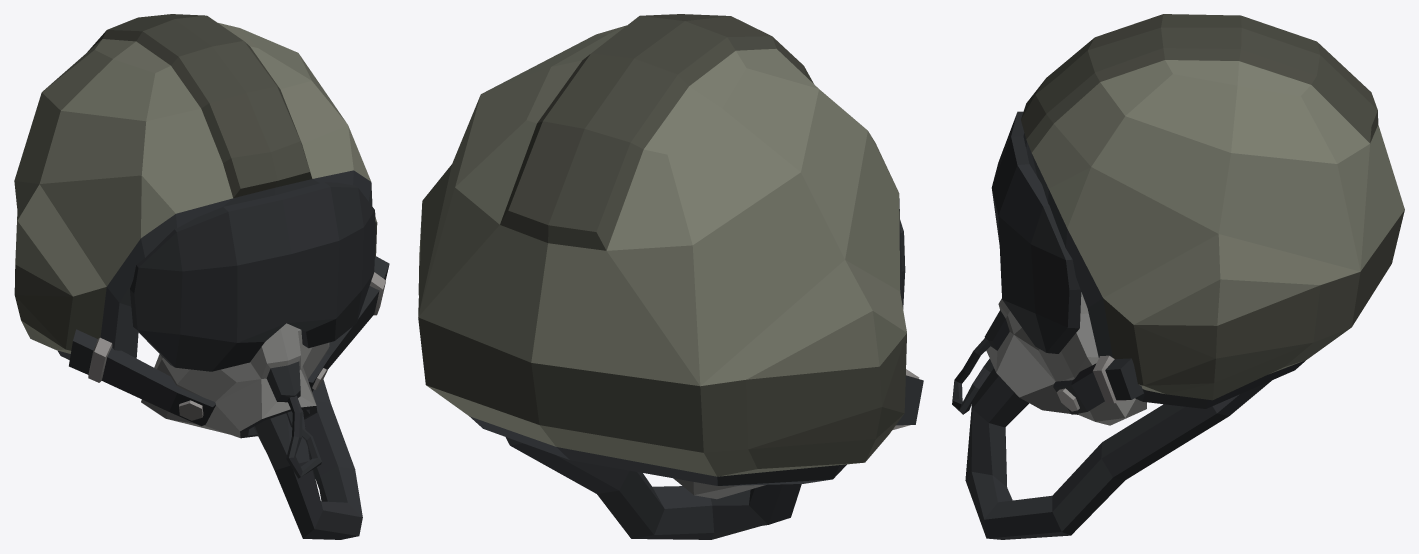
Rendered from SM_Char_Attach_Pilot_Helmet_01.fbx.
3 views of the same model, side by side, from view 1: azimuth 30°, elevation 25°; view 2: azimuth 150°, elevation 25°; view 3: azimuth 270°, elevation 25° (orthographic). The views are drawn at different scales.
Visible parts, largest first — view 1: SM_Char_Attach_Pilot_Helmet_01, SM_Char_Attach_Pilot_Helmet_01_Visor, SM_Char_Attach_Pilot_Helmet_01_Face; view 2: SM_Char_Attach_Pilot_Helmet_01, SM_Char_Attach_Pilot_Helmet_01_Face; view 3: SM_Char_Attach_Pilot_Helmet_01, SM_Char_Attach_Pilot_Helmet_01_Face, SM_Char_Attach_Pilot_Helmet_01_Visor.
Part boxes in pixels (x1,y1,x2,y2): SM_Char_Attach_Pilot_Helmet_01: (14, 14, 377, 359); SM_Char_Attach_Pilot_Helmet_01_Visor: (130, 182, 375, 371); SM_Char_Attach_Pilot_Helmet_01_Face: (69, 256, 389, 539); SM_Char_Attach_Pilot_Helmet_01: (418, 14, 906, 485); SM_Char_Attach_Pilot_Helmet_01_Face: (505, 369, 923, 539); SM_Char_Attach_Pilot_Helmet_01: (1021, 14, 1404, 408); SM_Char_Attach_Pilot_Helmet_01_Face: (952, 292, 1271, 539); SM_Char_Attach_Pilot_Helmet_01_Visor: (991, 111, 1081, 353).
Bounding box in the file's own units: 36.95 × 46.45 × 39.4.
